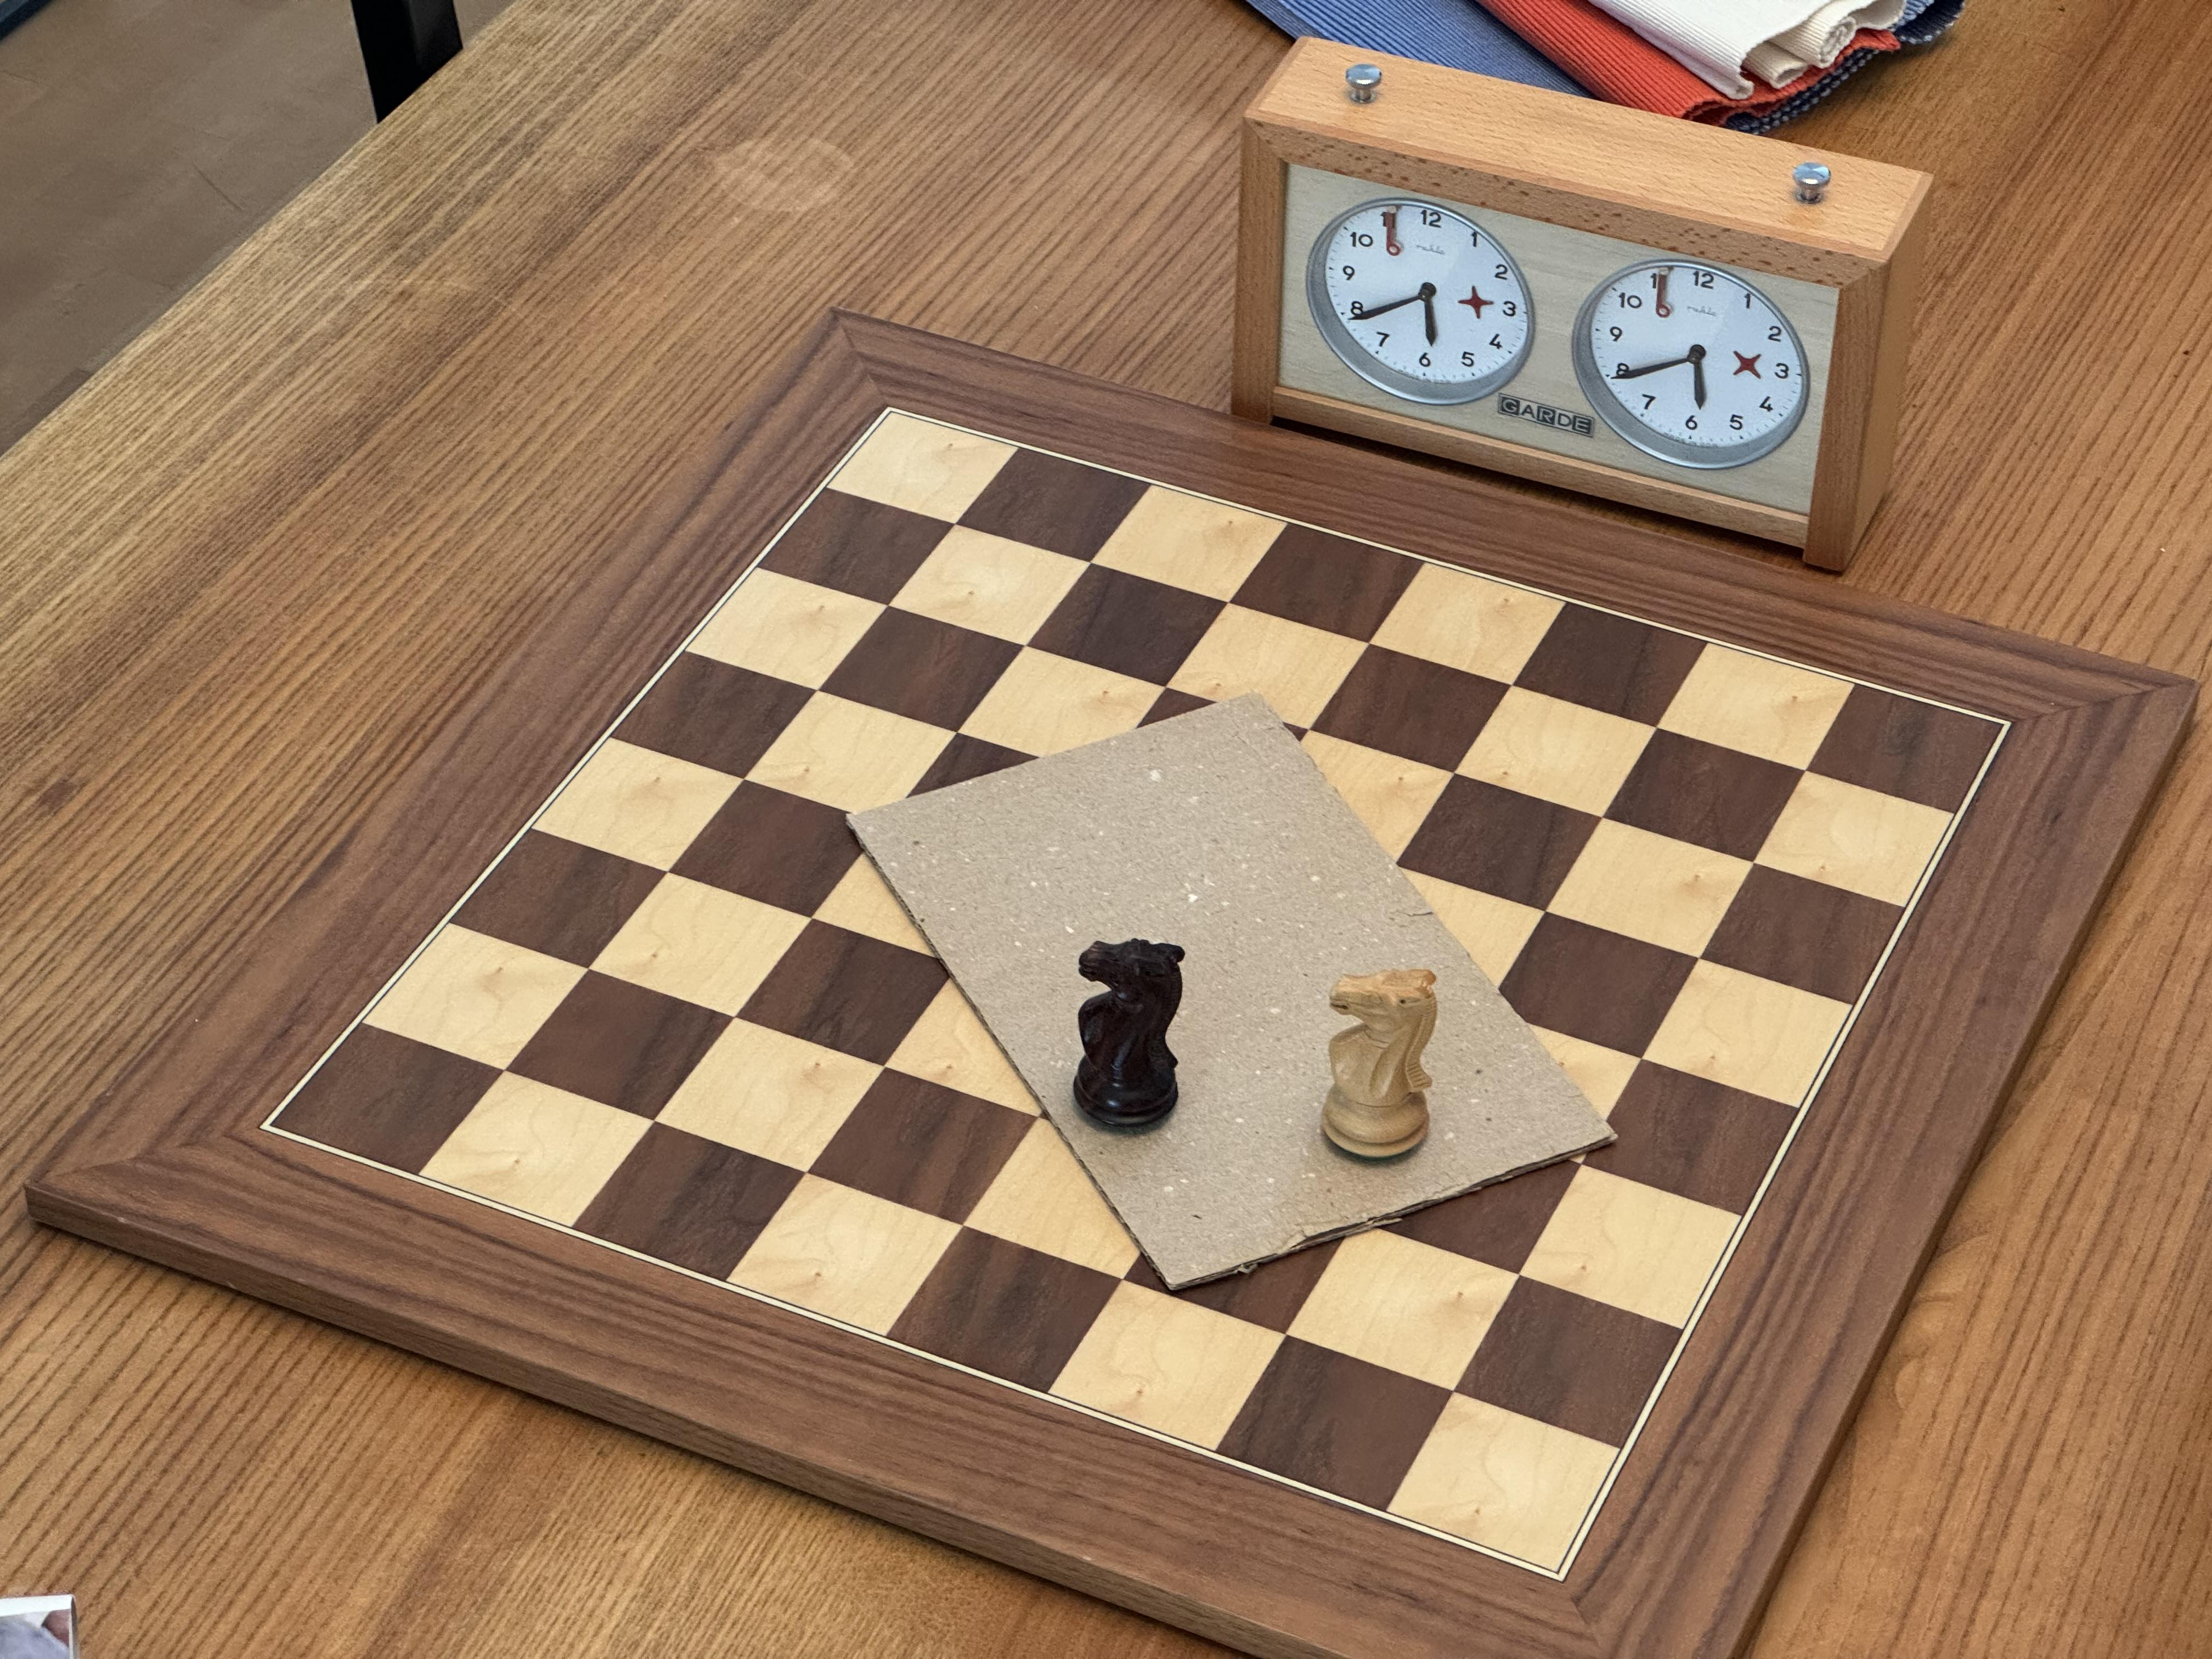Black Knight: (1069, 934, 1190, 1136)
White Knight: (1315, 964, 1442, 1171)
